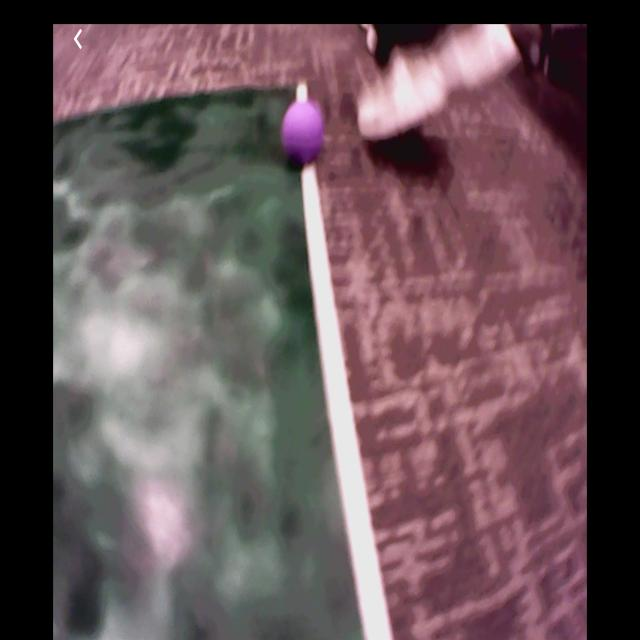ball: (282, 104, 325, 161)
